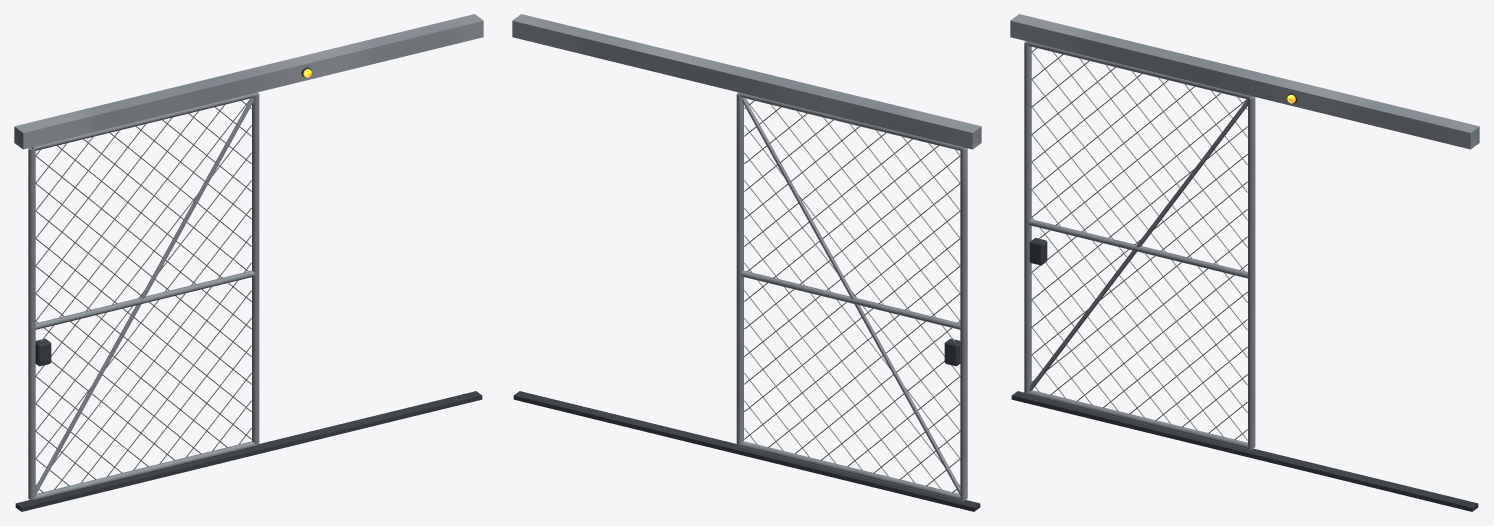
File: yard_gate.fbx
3 views of the same model, side by side, from view 1: azimuth 30°, elevation 25°; view 2: azimuth 150°, elevation 25°; view 3: azimuth 330°, elevation 25° (orthographic).
Parts seen in each view (by area): view 1: yard_gate_leaf, yard_gate, yard_gate_guide; view 2: yard_gate_leaf, yard_gate, yard_gate_guide; view 3: yard_gate_leaf, yard_gate, yard_gate_guide.
Boxes of the visible parts, x1=… form: yard_gate_leaf: x1=28, y1=92, x2=259, y2=501; yard_gate: x1=14, y1=14, x2=483, y2=149; yard_gate_guide: x1=15, y1=391, x2=482, y2=511; yard_gate_leaf: x1=736, y1=92, x2=967, y2=501; yard_gate: x1=512, y1=14, x2=981, y2=149; yard_gate_guide: x1=513, y1=391, x2=980, y2=511; yard_gate_leaf: x1=1024, y1=41, x2=1255, y2=449; yard_gate: x1=1010, y1=14, x2=1479, y2=149; yard_gate_guide: x1=1011, y1=391, x2=1478, y2=511.
Bounding box in the file's own units: 3.5 × 2.76 × 0.159.
1 material, 1 textured.
